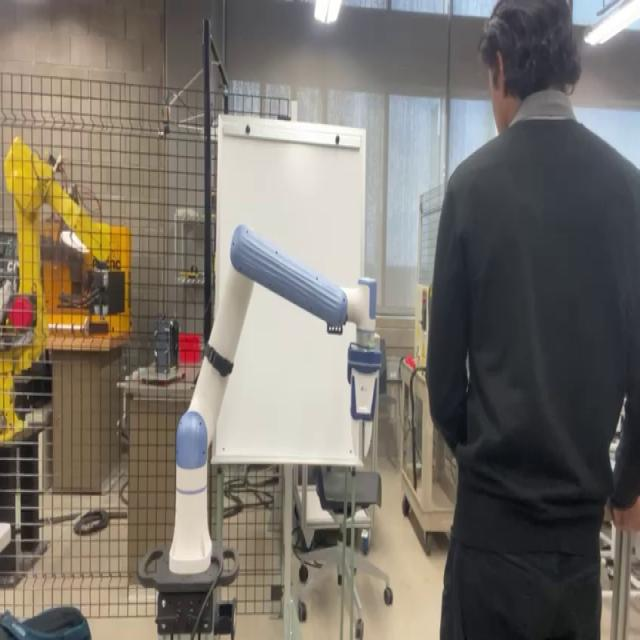human: (424, 0, 639, 637)
